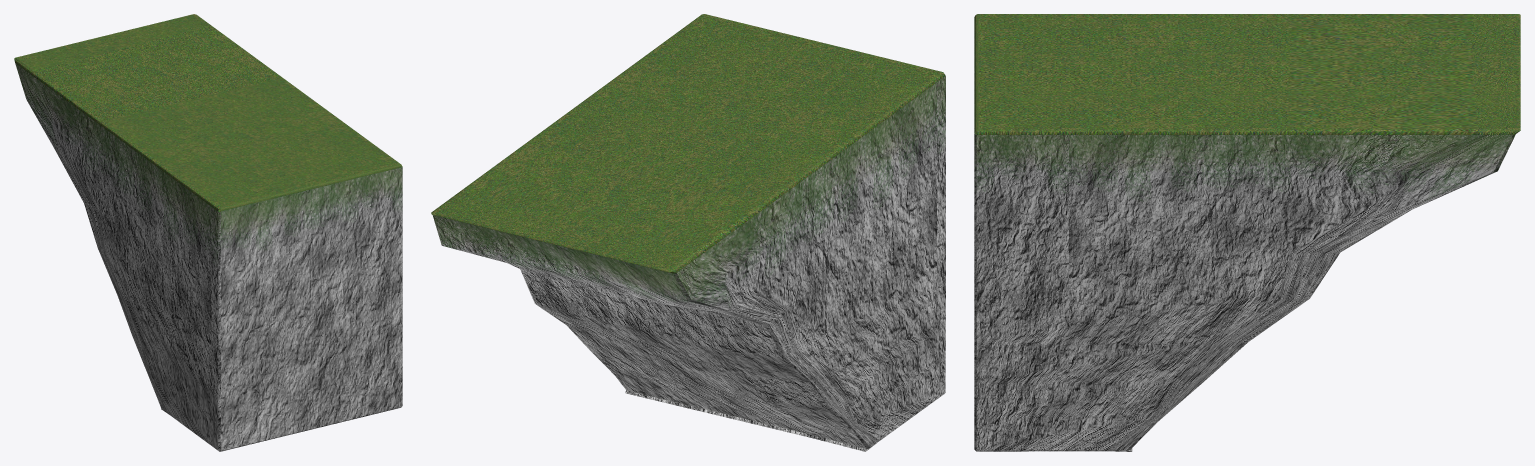
File: cliff2.fbx
3 renders of one model, left to right at view 1: azimuth 30°, elevation 25°; view 2: azimuth 150°, elevation 25°; view 3: azimuth 270°, elevation 25°, orthographic. The views are drawn at different scales.
Parts seen in each view (by area): view 1: pCube2; view 2: pCube2; view 3: pCube2.
Boxes of the visible parts, left/top/right/bottom form: pCube2: left=14, top=14, right=402, bottom=451; pCube2: left=431, top=14, right=945, bottom=451; pCube2: left=974, top=14, right=1520, bottom=451.
Size of the model in its own units: 10.46 by 13.21 by 20.32.
Materials: 3 (3 with a texture image).
